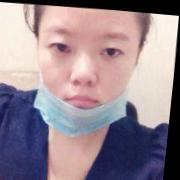WRONG: (32, 11, 142, 124)
